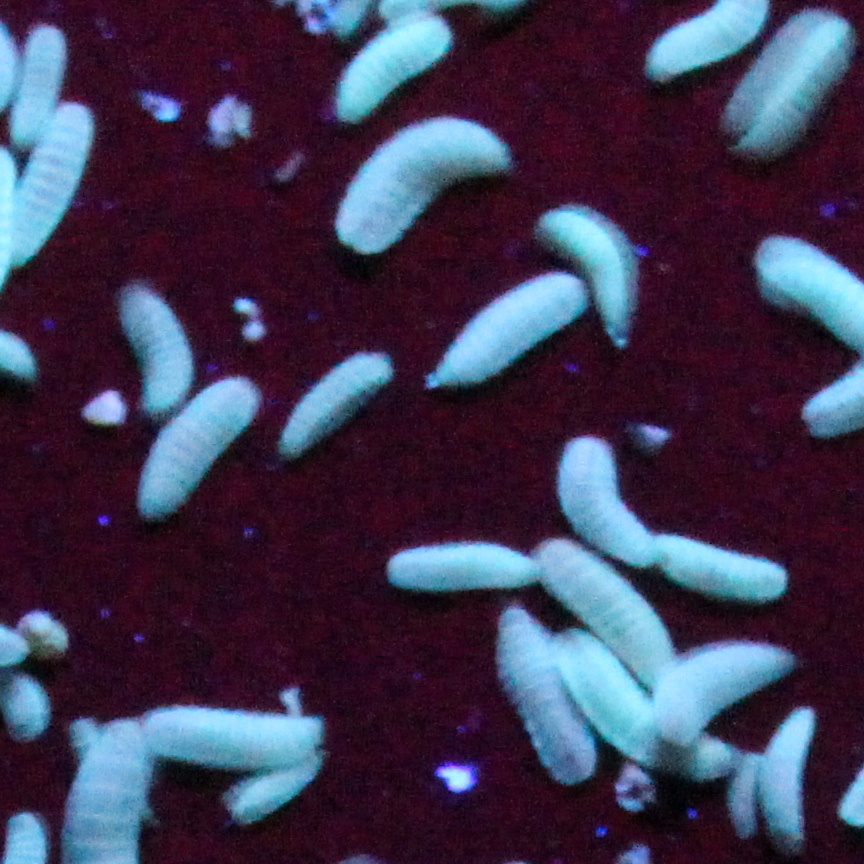larve: (350, 120, 506, 248), (442, 280, 598, 404), (130, 376, 270, 512), (482, 632, 602, 776), (718, 20, 850, 144), (558, 448, 662, 572), (280, 352, 394, 458), (554, 208, 642, 340), (340, 16, 454, 117), (102, 288, 190, 416), (670, 648, 790, 740), (142, 712, 318, 768), (30, 108, 86, 252), (650, 544, 782, 600), (658, 8, 770, 68), (226, 772, 322, 832), (406, 548, 526, 596), (34, 32, 54, 140)
